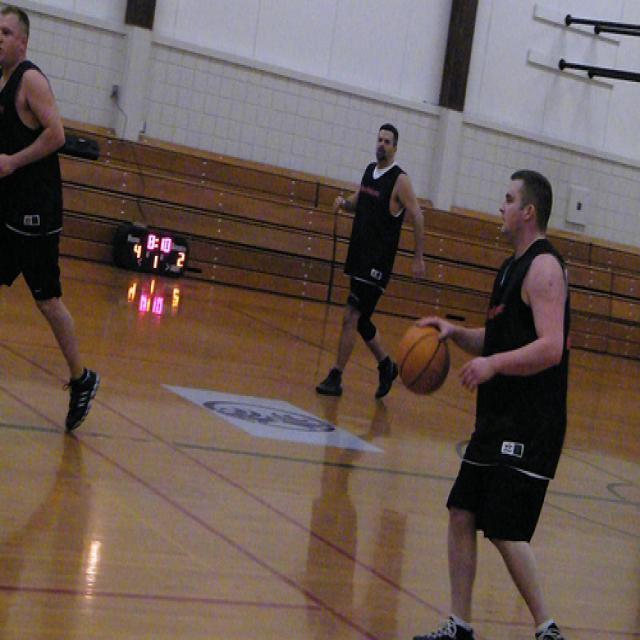basketball: (396, 324, 450, 392)
